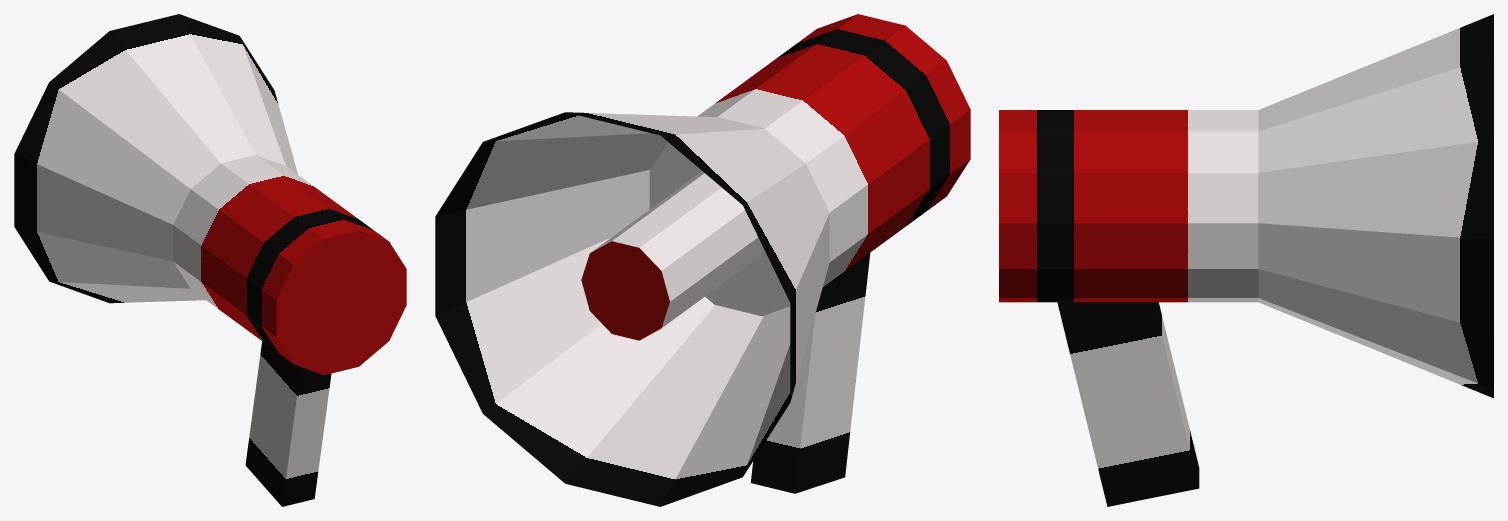
The model's file is megaphone.gltf.
3 views of the same model, side by side, from view 1: azimuth 30°, elevation 25°; view 2: azimuth 150°, elevation 25°; view 3: azimuth 270°, elevation 25° (orthographic). The views are drawn at different scales.
Visible parts, largest first — view 1: cone, cylinder, cube; view 2: cone, cylinder (×2), cube; view 3: cone, cylinder, cube.
Part boxes in pixels (<box>): cone: <box>14,14,297,303</box>; cylinder: <box>173,155,406,375</box>; cube: <box>245,341,331,506</box>; cone: <box>435,112,829,506</box>; cylinder (×2): <box>581,14,970,340</box>; cube: <box>750,253,870,493</box>; cone: <box>1258,14,1493,398</box>; cylinder: <box>999,110,1258,302</box>; cube: <box>1057,302,1199,506</box>.
Size of the model in its own units: 0.25 by 0.3377 by 0.3281.
Materials: 2 (2 with a texture image).
